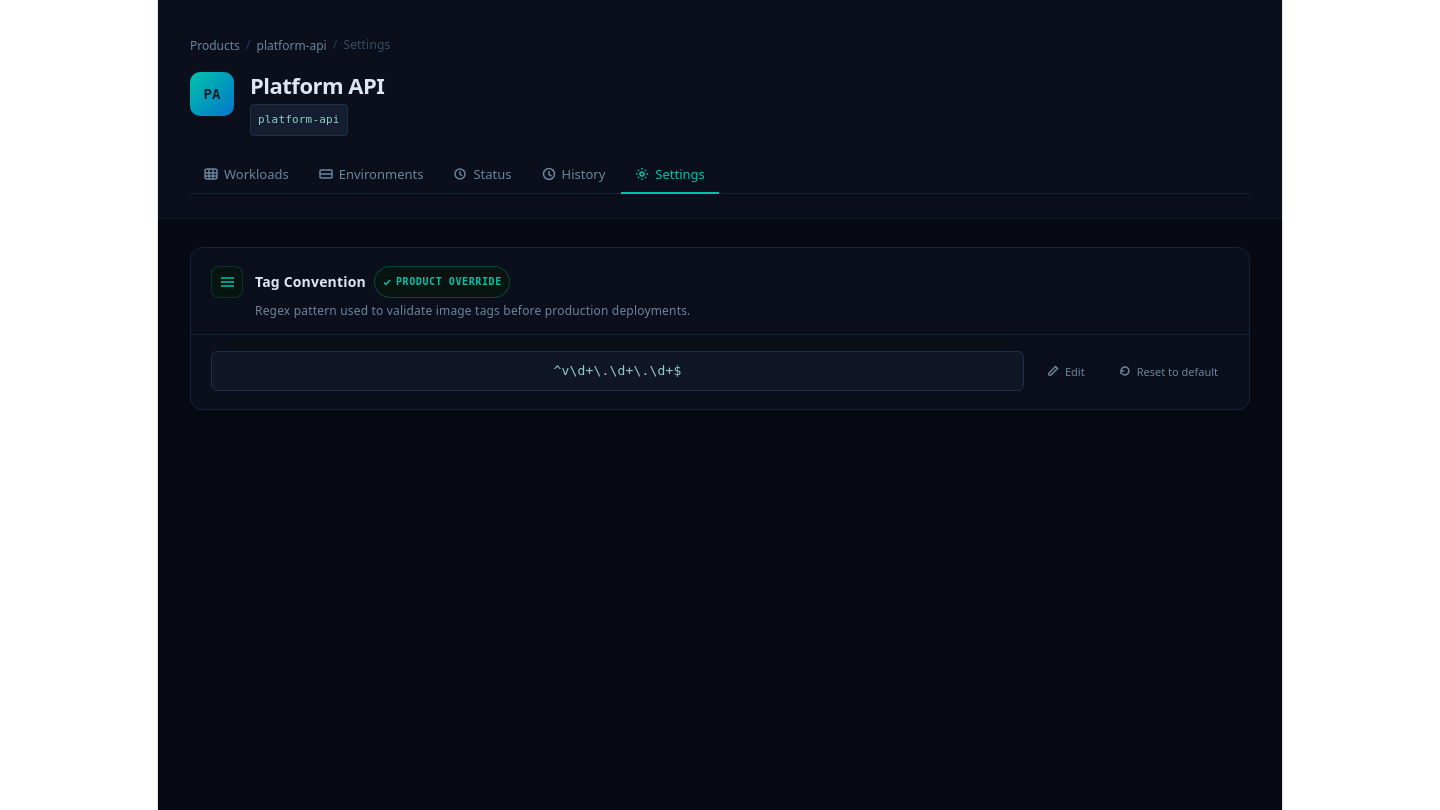
Scenario: ProductSettingsPage — edit mode › clicking Edit shows the text input and Save/Cancel buttons
What coordinates should you click on to do the following:
click the button "Edit"
I would click on:
 (1066, 371)
Its box is [1036, 359, 1096, 384].
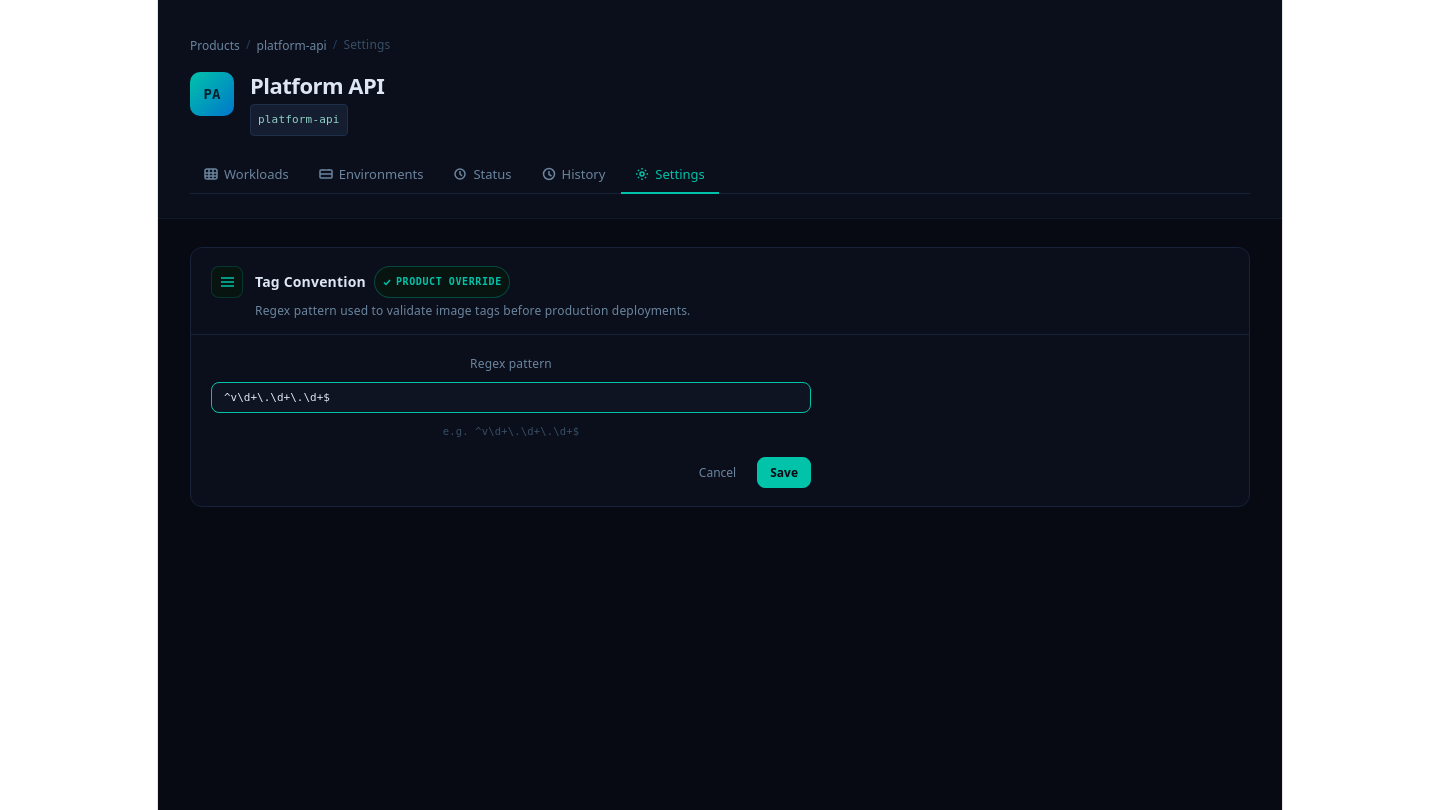
expect the field labelled "Regex pattern" is shown: met, box [211, 382, 811, 414]
expect the button "Save" is shown: met, box [757, 457, 811, 488]
expect the button "Cancel" is shown: met, box [686, 457, 749, 488]
